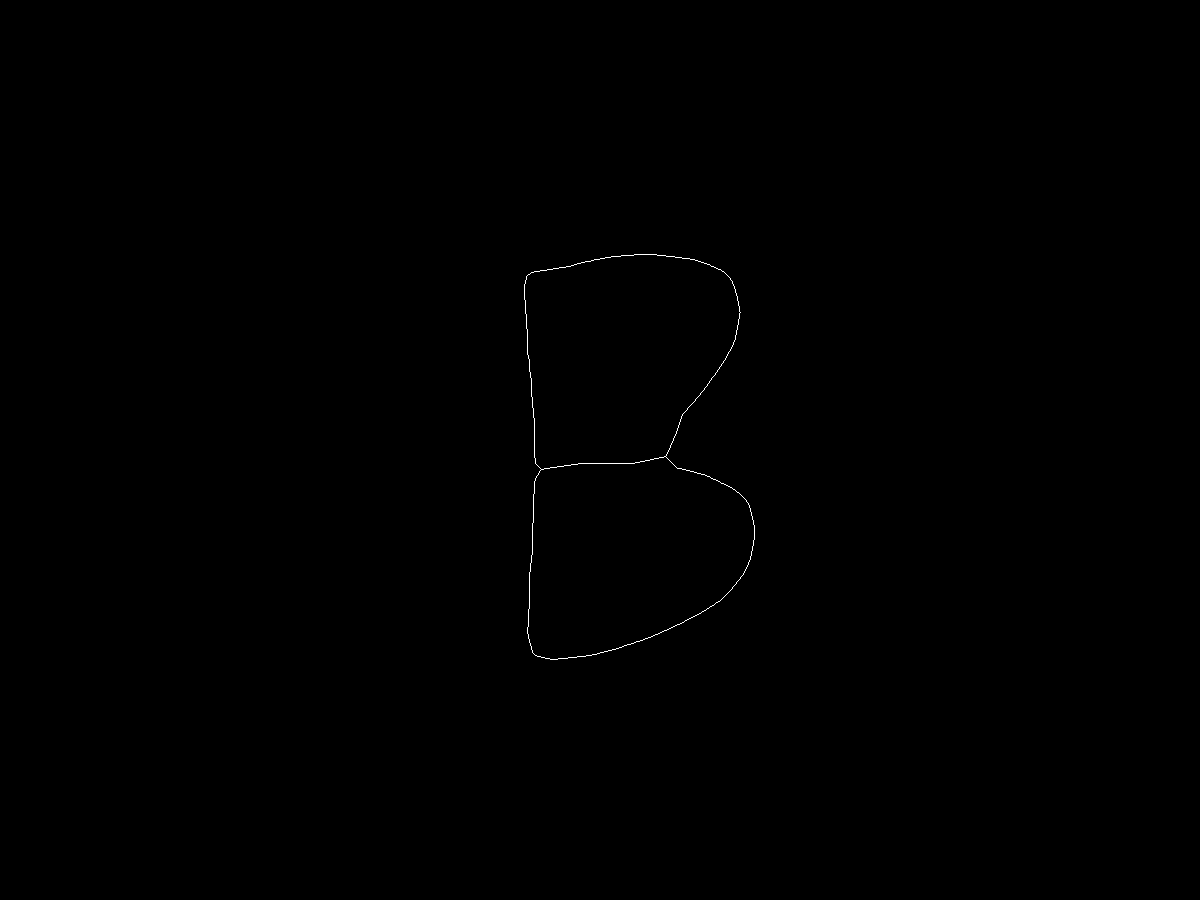dian1: (522, 267, 536, 281)
dian2: (529, 459, 554, 484)
dian3: (525, 648, 545, 668)
dian4: (659, 453, 679, 473)
